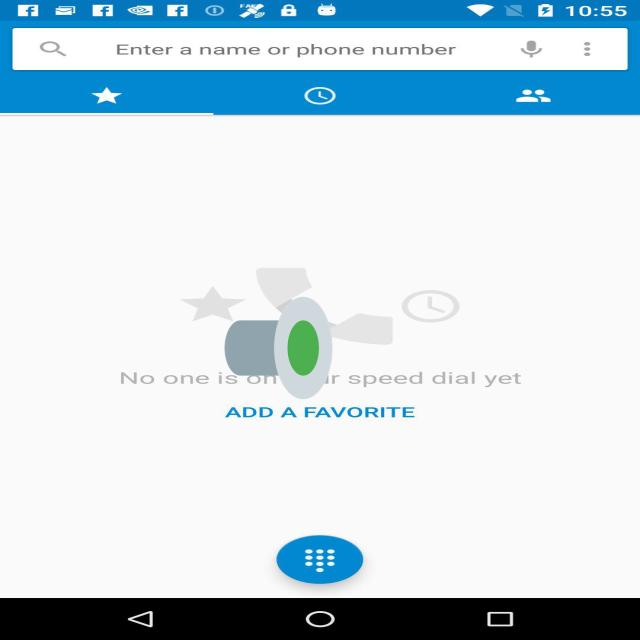social proof: (225, 253, 332, 443)
